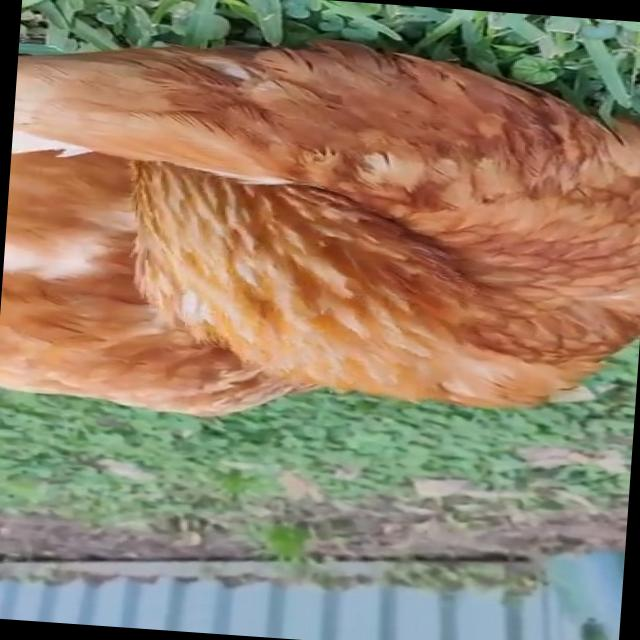self preening: (0, 4, 640, 454)
